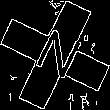N_SW: (26, 23, 84, 87)
